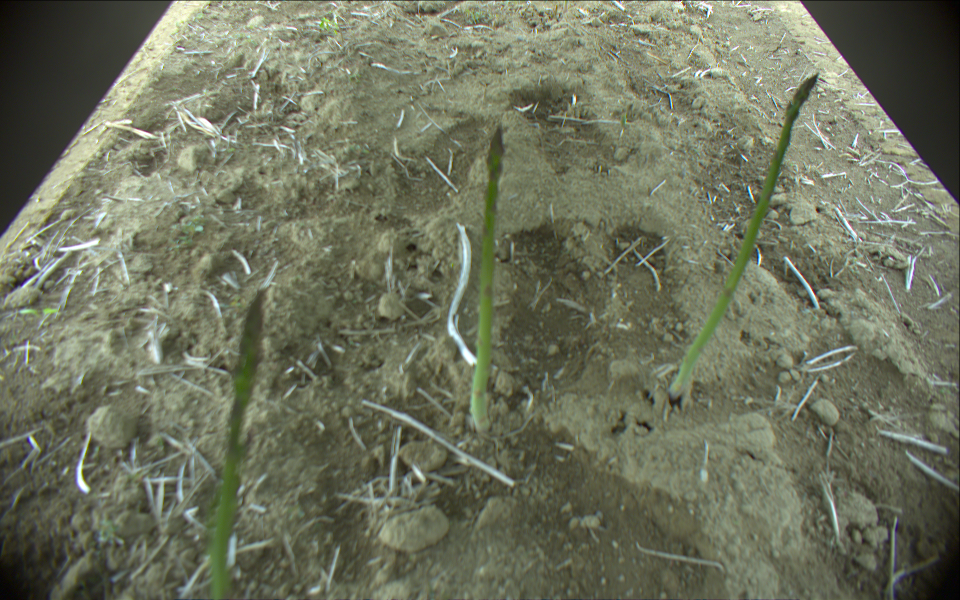aspa: (668, 72, 823, 401), (208, 287, 267, 600), (467, 122, 504, 432)
